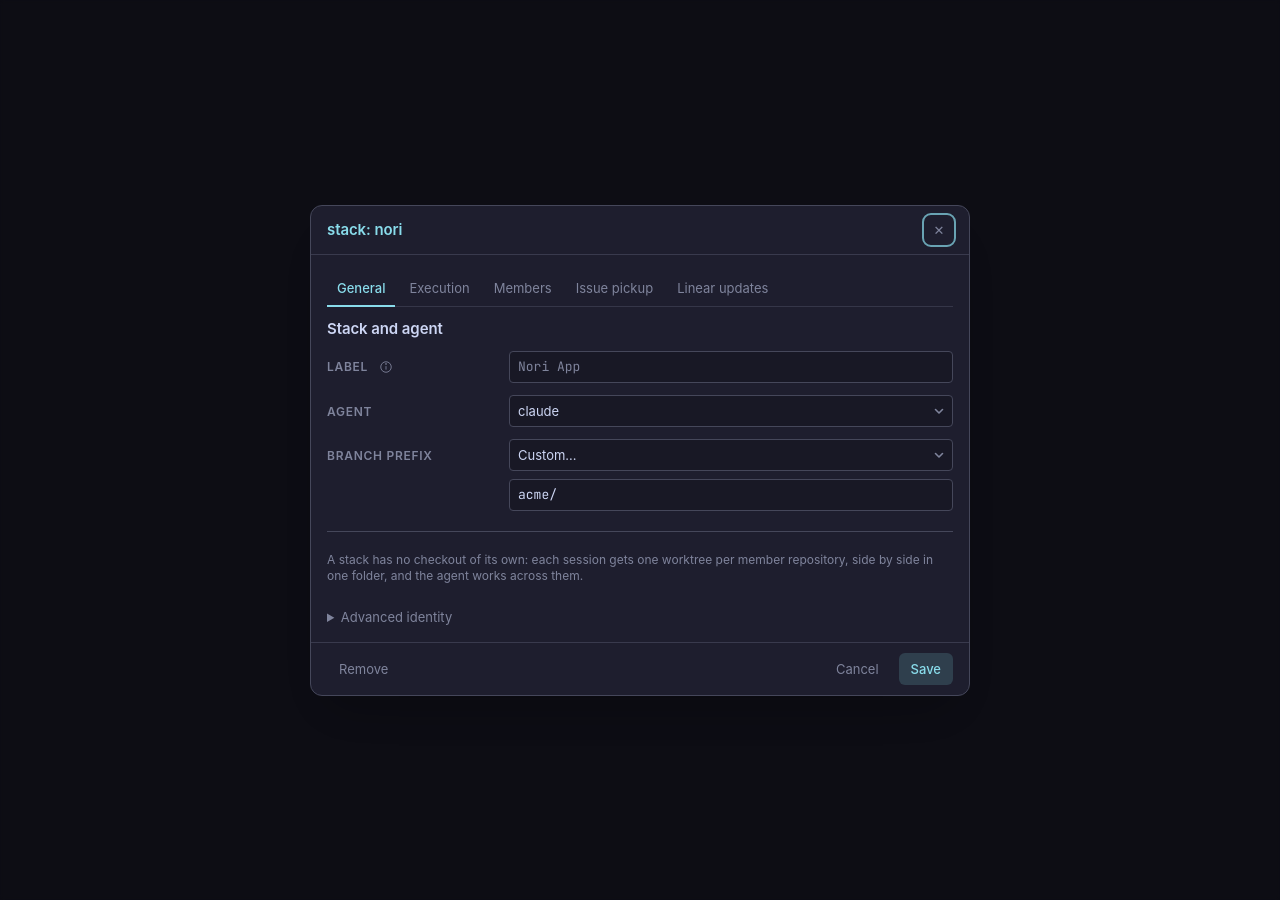
it: ProjectForm › shows a STACK without any repository field, and its members
Expected: the heading "stack: nori" is shown, [327,220,402,240]
Expected: the field labelled "Repo" is not shown
What coordinates should you click on to do the following:
click the tab "Members"
I would click on:
 (523, 288)
Its box is [484,270,562,306].
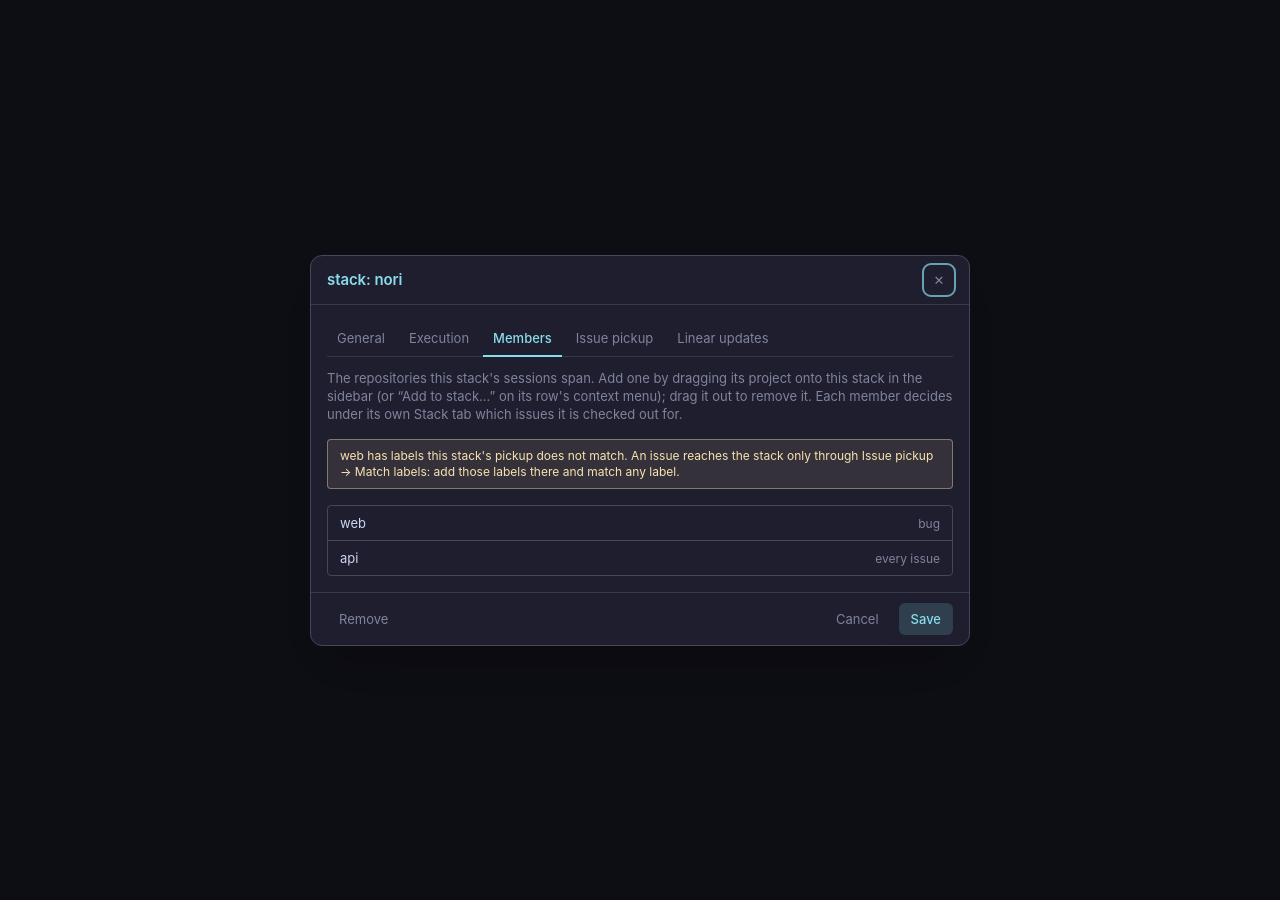
Expected: the text "web" is shown, [340,514,366,532]
Expected: the text "every issue" is shown, [875,550,940,566]
Expected: the text "dragging its project onto this stack" is shown, [327,370,952,422]
What coordinates should you click on to do the following:
click the tab "Linear updates"
I would click on:
 (723, 338)
Its box is [667,320,778,356].
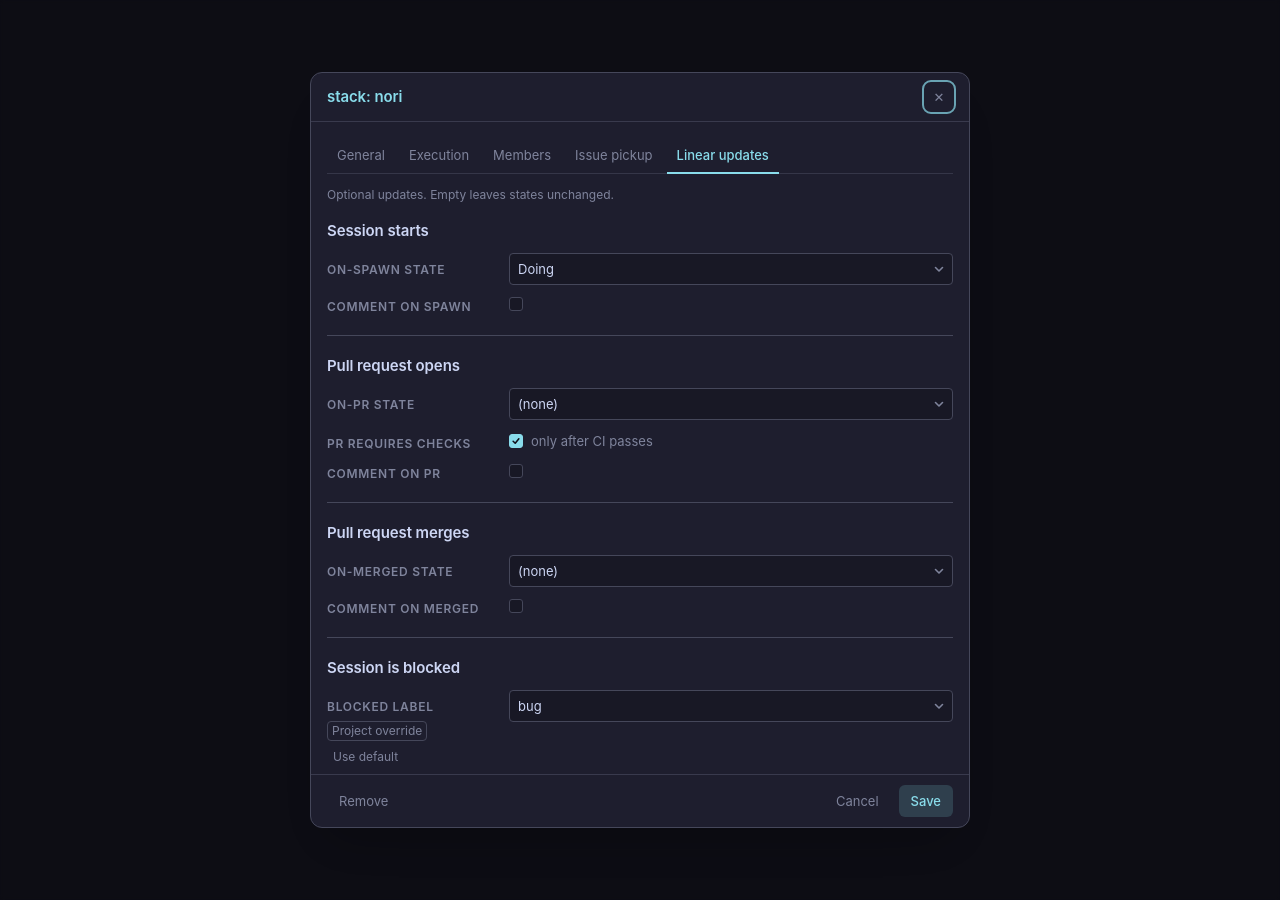
Expected: the checkbox named "PR requires checks" is shown, [509,434,523,448]
